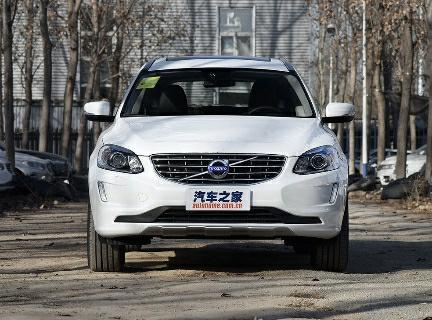car: (74, 48, 364, 281)
